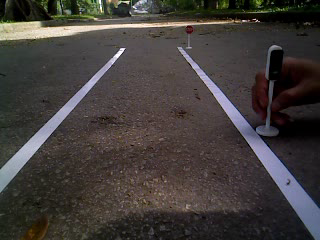Blue: (265, 43, 285, 82)
Stop: (181, 24, 197, 35)
